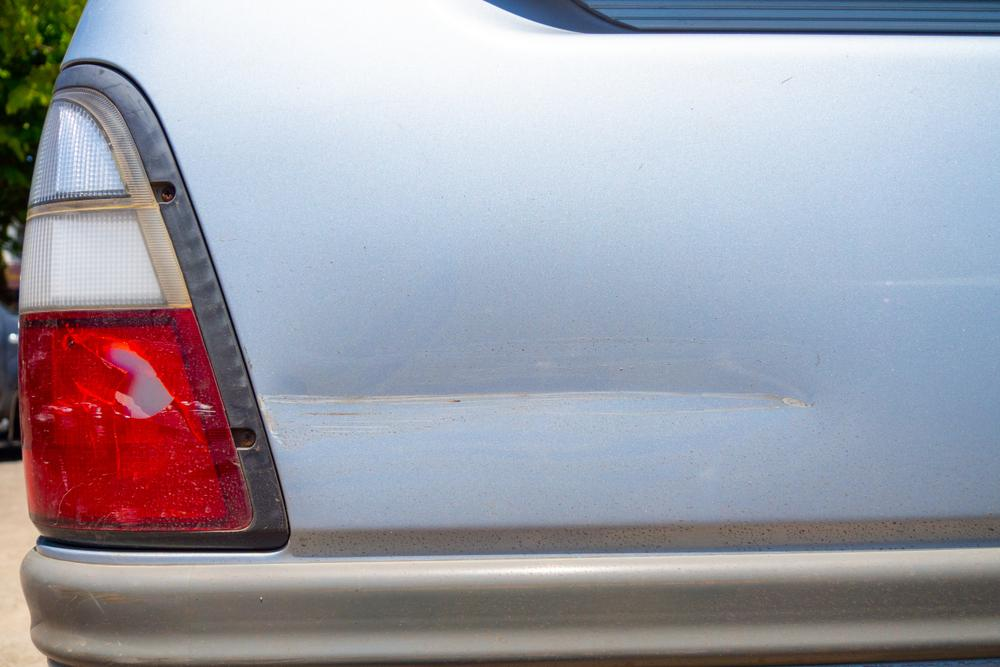dent: (259, 351, 812, 443)
lamp broken: (18, 86, 255, 532)
